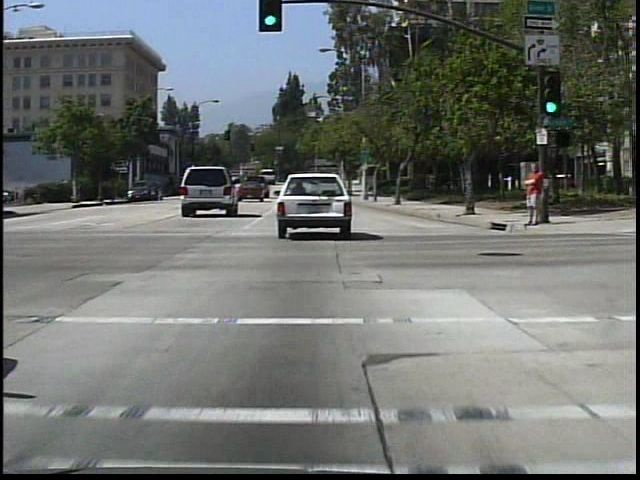person: (520, 159, 547, 229)
